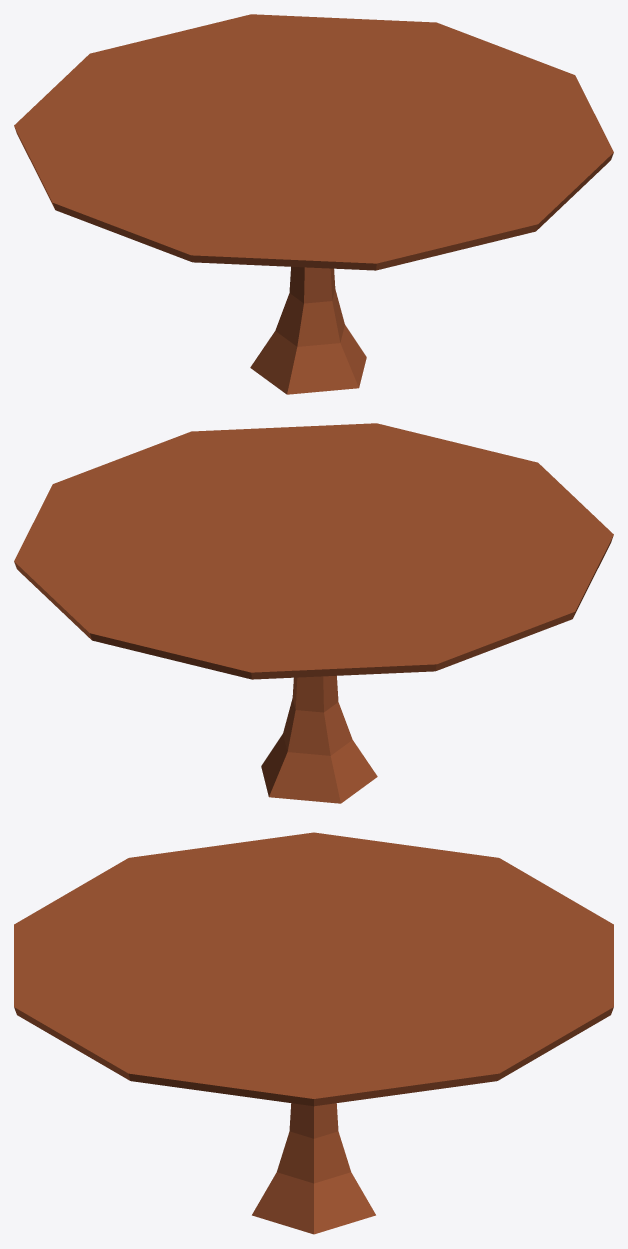
File: Prop_Furniture_Fantasy_Dungeon_Table_Wooden_Small_02.FBX
3 renders of one model, top to bottom at view 1: azimuth 30°, elevation 25°; view 2: azimuth 150°, elevation 25°; view 3: azimuth 270°, elevation 25°, orthographic. The views are drawn at different scales.
Parts seen in each view (by area): view 1: Prop_Furniture_Fantasy_Dungeon_Table_Wooden_Small_02; view 2: Prop_Furniture_Fantasy_Dungeon_Table_Wooden_Small_02; view 3: Prop_Furniture_Fantasy_Dungeon_Table_Wooden_Small_02.
Part boxes in pixels (box(x1,y1,x2,y2)): Prop_Furniture_Fantasy_Dungeon_Table_Wooden_Small_02: box(14, 14, 613, 394); Prop_Furniture_Fantasy_Dungeon_Table_Wooden_Small_02: box(14, 423, 613, 803); Prop_Furniture_Fantasy_Dungeon_Table_Wooden_Small_02: box(14, 832, 613, 1234).
Size of the model in its own units: 908 by 384 by 863.
